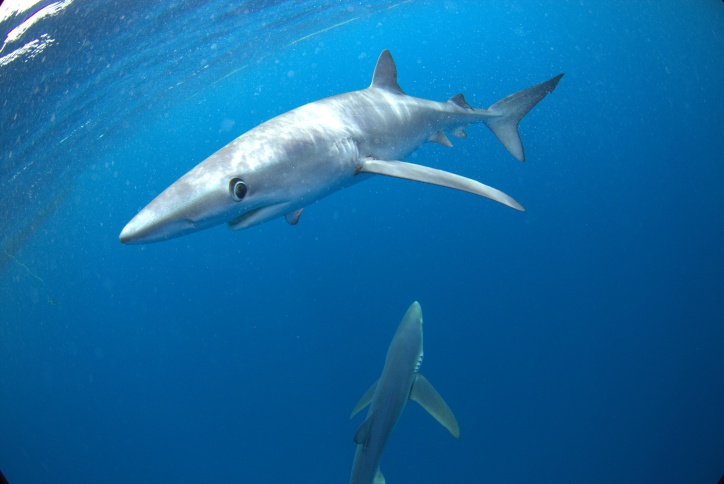Azul: (96, 37, 576, 255)
